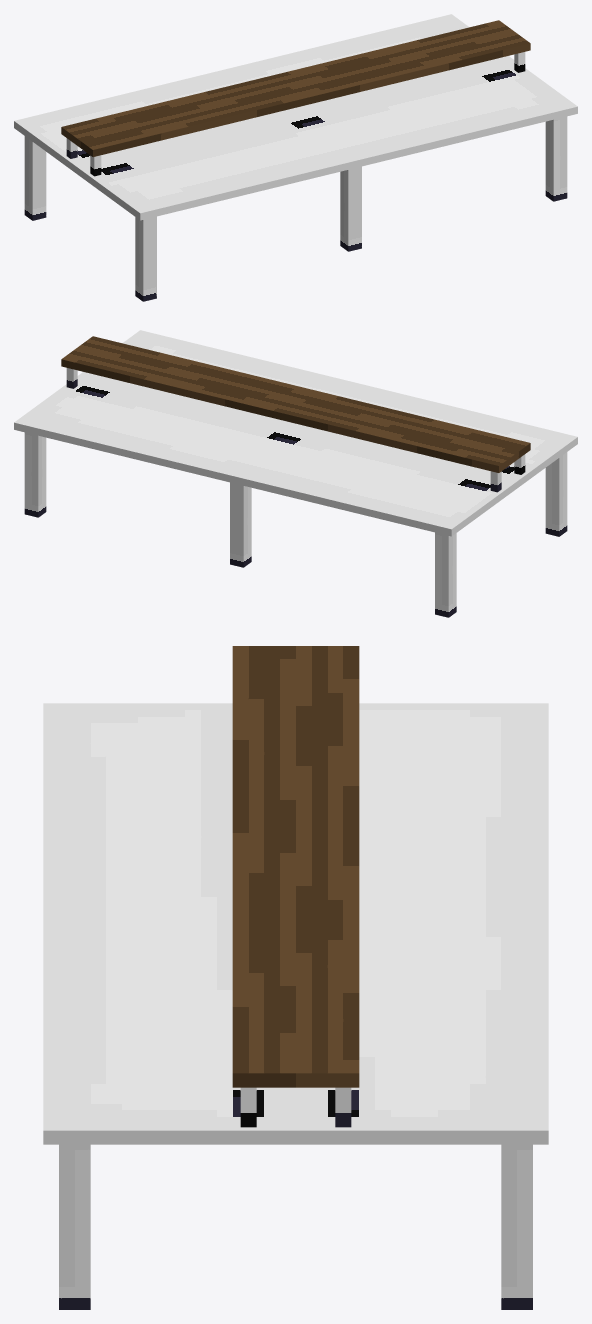
File: ProjectTable.glb
3 renders of one model, top to bottom at view 1: azimuth 30°, elevation 25°; view 2: azimuth 150°, elevation 25°; view 3: azimuth 270°, elevation 25°, orthographic. The views are drawn at different scales.
Visible parts, largest first — view 1: table, topperthing; view 2: table, topperthing; view 3: table, topperthing.
Part boxes in pixels (<box>): table: <box>14,14,577,301</box>; topperthing: <box>61,20,530,176</box>; table: <box>14,330,577,617</box>; topperthing: <box>61,336,530,492</box>; table: <box>43,703,548,1309</box>; topperthing: <box>232,646,359,1127</box>.
Bounding box in the file's own units: 4 × 1.06 × 2.
1 material, 1 textured.
